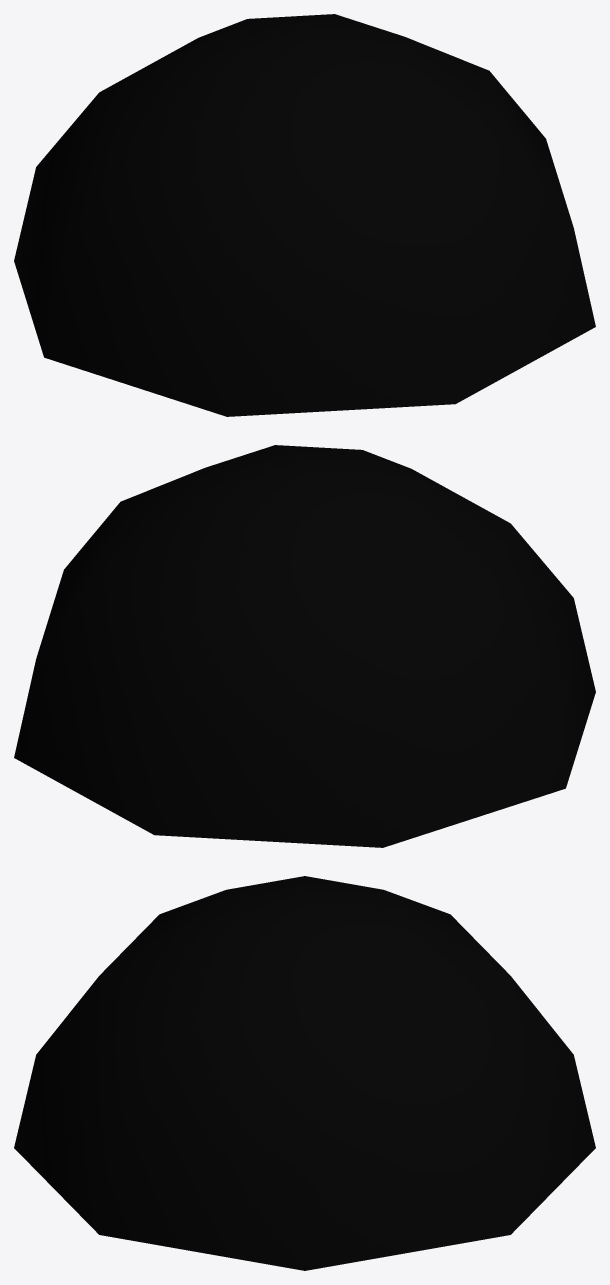
The model's file is breadStationMainObject.fbx.
The picture shows the model from 3 angles, top to bottom: view 1: azimuth 30°, elevation 25°; view 2: azimuth 150°, elevation 25°; view 3: azimuth 270°, elevation 25°; orthographic projection. The views are drawn at different scales.
Visible parts, largest first — view 1: breadDarkOutGeo; view 2: breadDarkOutGeo; view 3: breadDarkOutGeo.
Boxes of the visible parts, <box> form: breadDarkOutGeo: <box>14,14,595,416</box>; breadDarkOutGeo: <box>14,445,595,847</box>; breadDarkOutGeo: <box>14,876,595,1270</box>.
Size of the model in its own units: 290 by 135 by 290.
